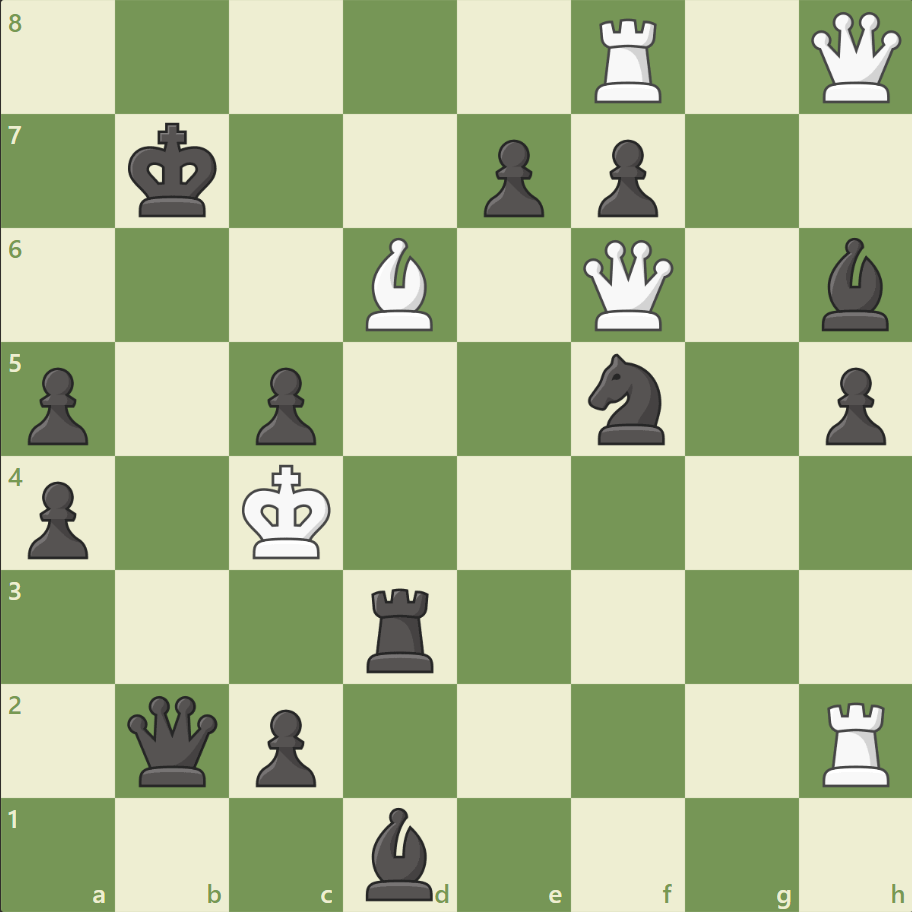B: (358, 233, 442, 336)
K: (238, 458, 338, 566)
Q: (805, 9, 904, 108), (578, 236, 677, 335)
R: (587, 12, 670, 109), (814, 693, 897, 790)
b: (812, 233, 896, 336), (358, 801, 442, 904)
k: (124, 117, 224, 225)
n: (579, 348, 676, 450)
p: (474, 132, 549, 223), (20, 359, 95, 450), (247, 359, 322, 450), (20, 473, 95, 564), (247, 700, 322, 791), (588, 132, 662, 223), (815, 359, 889, 450)
q: (124, 690, 223, 789)
r: (360, 579, 442, 676)
